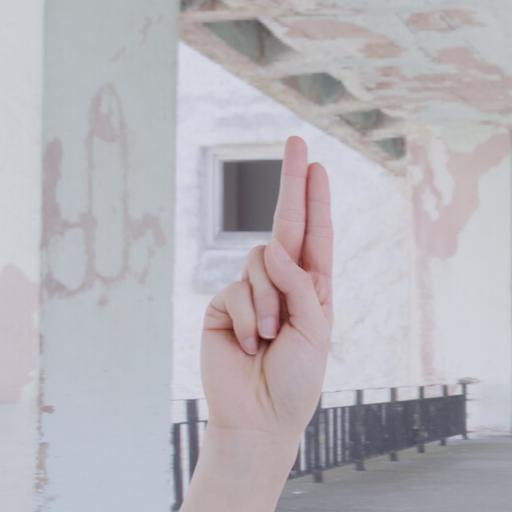U: (185, 116, 360, 464)
